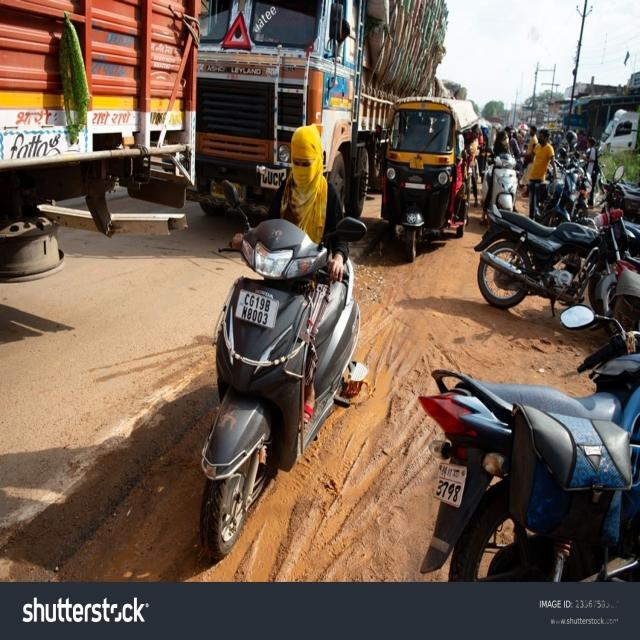autorickshaw: (381, 95, 478, 260)
motorcycle: (200, 124, 368, 559), (475, 206, 629, 312), (480, 131, 518, 225)
truck: (190, 0, 448, 216)
